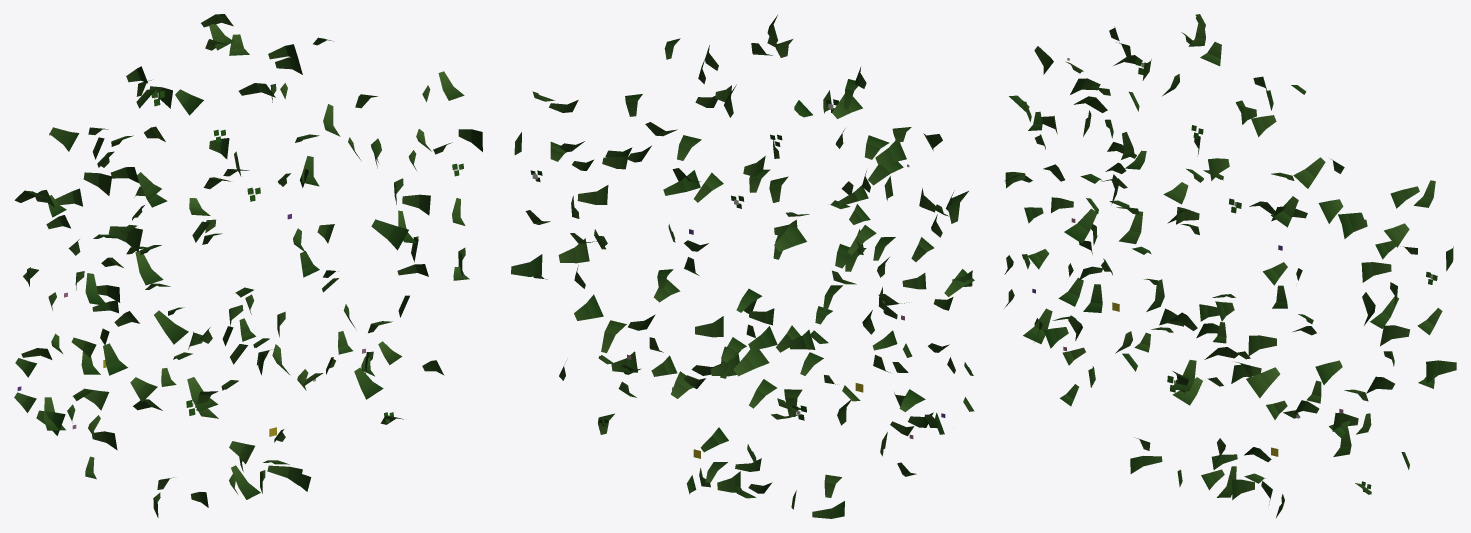
The model's file is Grass_Tile_NorthWoods.glb.
The picture shows the model from 3 angles, left to right: view 1: azimuth 30°, elevation 25°; view 2: azimuth 150°, elevation 25°; view 3: azimuth 330°, elevation 25°; orthographic projection. The views are drawn at different scales.
Parts seen in each view (by area): view 1: Grass_Tile_NorthWoods; view 2: Grass_Tile_NorthWoods; view 3: Grass_Tile_NorthWoods.
Boxes of the visible parts, x1,y1,x2,y2 form: Grass_Tile_NorthWoods: (14,14,482,517); Grass_Tile_NorthWoods: (511,15,974,518); Grass_Tile_NorthWoods: (1004,14,1456,517).
Size of the model in its own units: 1.25 by 1.29 by 0.104.
